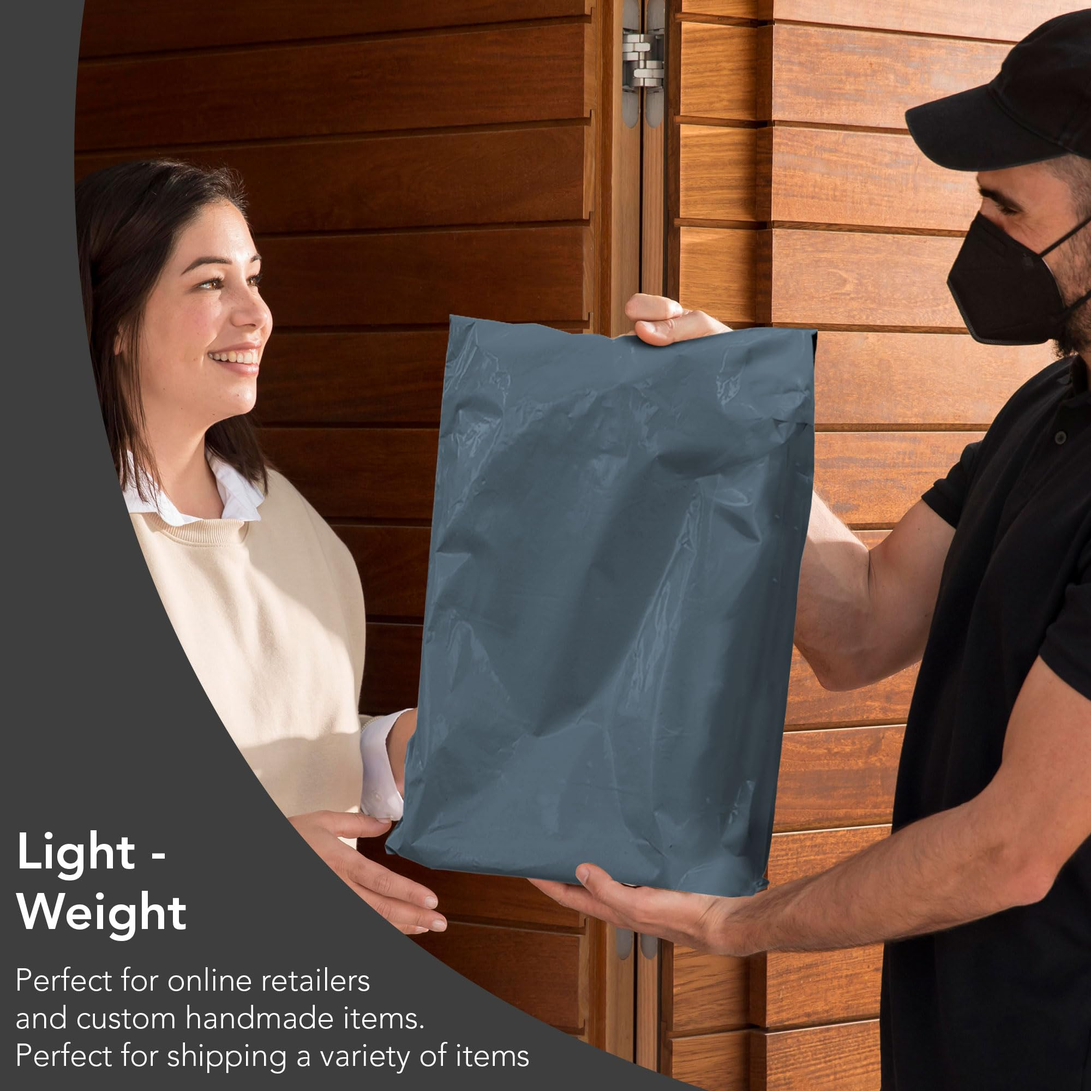Parcel: (387, 317, 816, 896)
